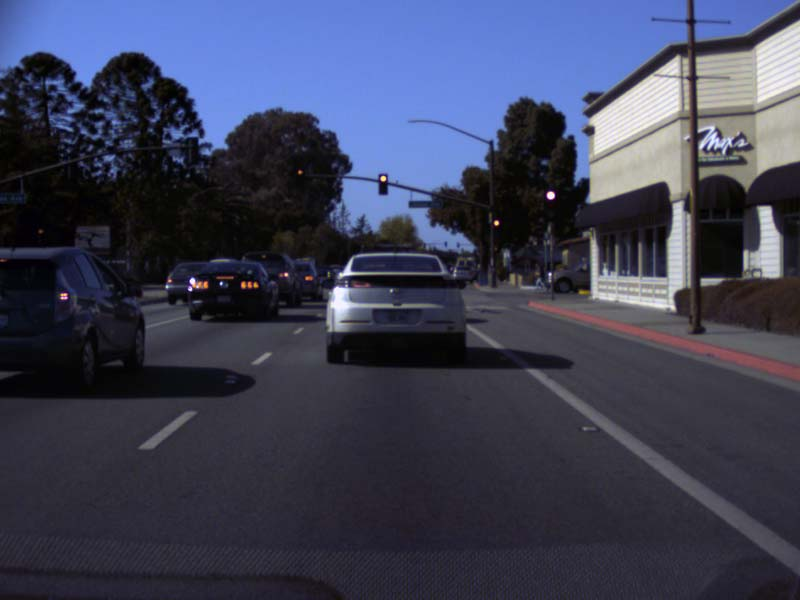Red: (543, 190, 558, 221), (294, 166, 304, 188), (378, 173, 387, 194), (493, 217, 500, 236), (37, 228, 44, 246)
